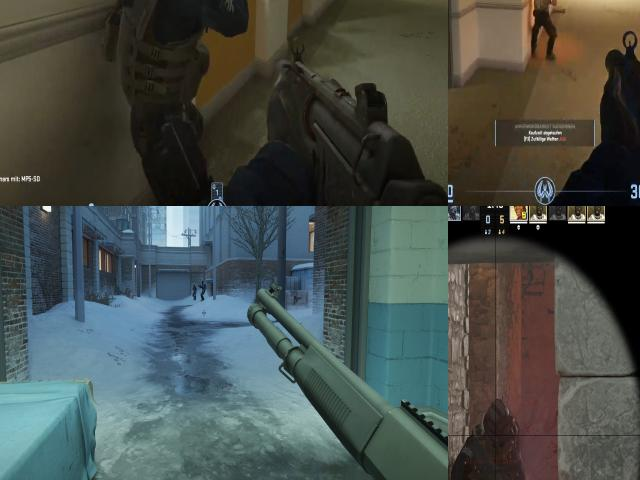CT: (107, 0, 243, 130), (461, 396, 523, 480), (201, 280, 206, 300), (192, 284, 197, 300)
CT-Head: (481, 392, 518, 451), (193, 284, 196, 287), (202, 280, 204, 284)
T: (532, 0, 552, 26)
